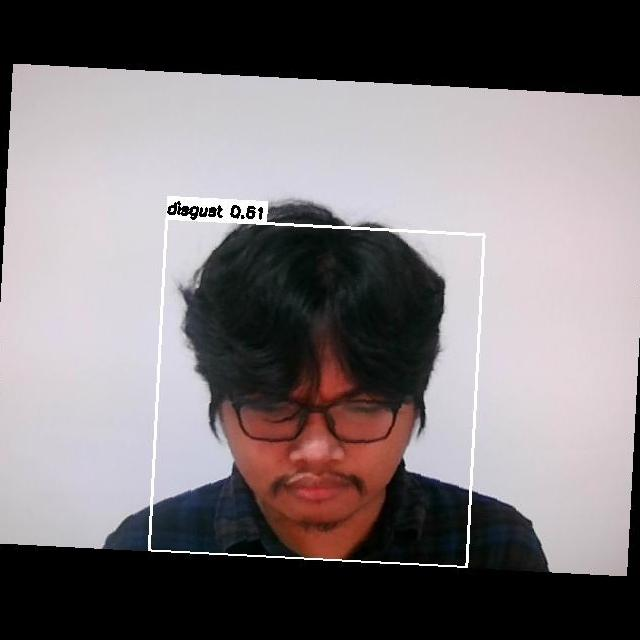Angry: (229, 361, 402, 513)
